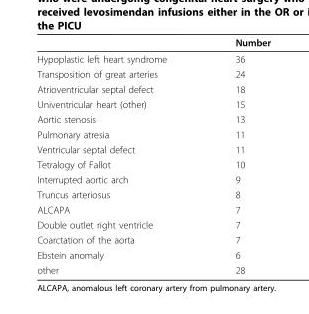table: (36, 36, 269, 275)
table column: (36, 36, 200, 275), (200, 36, 269, 275)
table column header: (36, 36, 269, 50)
table row: (36, 50, 269, 66), (36, 231, 269, 247), (36, 66, 269, 81), (36, 81, 269, 96), (36, 96, 269, 111), (36, 111, 269, 126), (36, 126, 269, 141), (36, 141, 269, 156), (36, 156, 269, 171), (36, 171, 269, 186), (36, 186, 269, 201), (36, 201, 269, 216), (36, 216, 269, 231), (36, 247, 269, 262), (36, 36, 269, 50), (36, 262, 269, 275)
